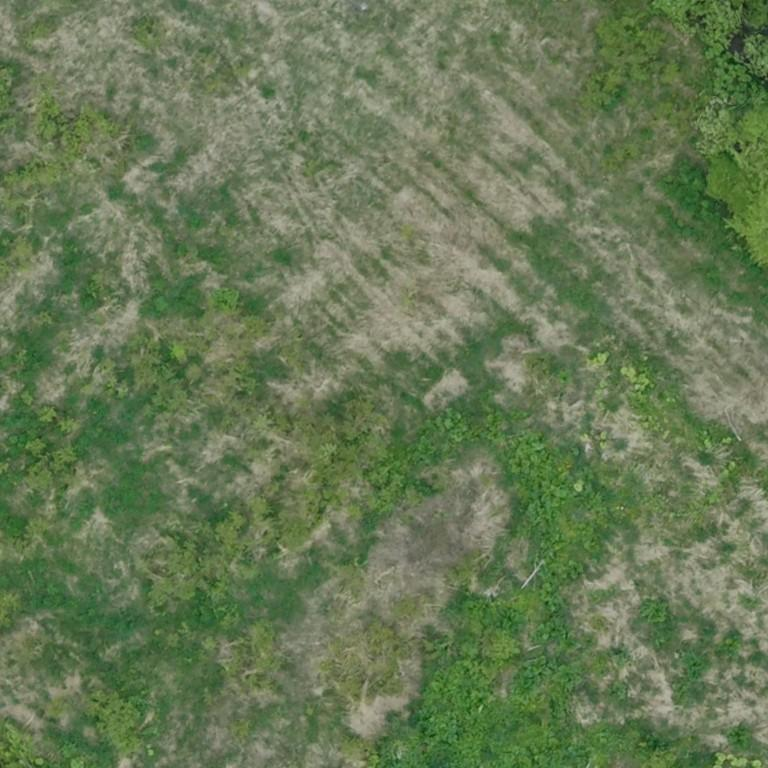hogweed: (534, 592, 575, 650), (515, 656, 582, 691), (497, 603, 528, 630), (640, 599, 668, 624), (685, 651, 709, 677), (564, 559, 584, 579), (730, 727, 751, 746), (647, 735, 667, 750)
